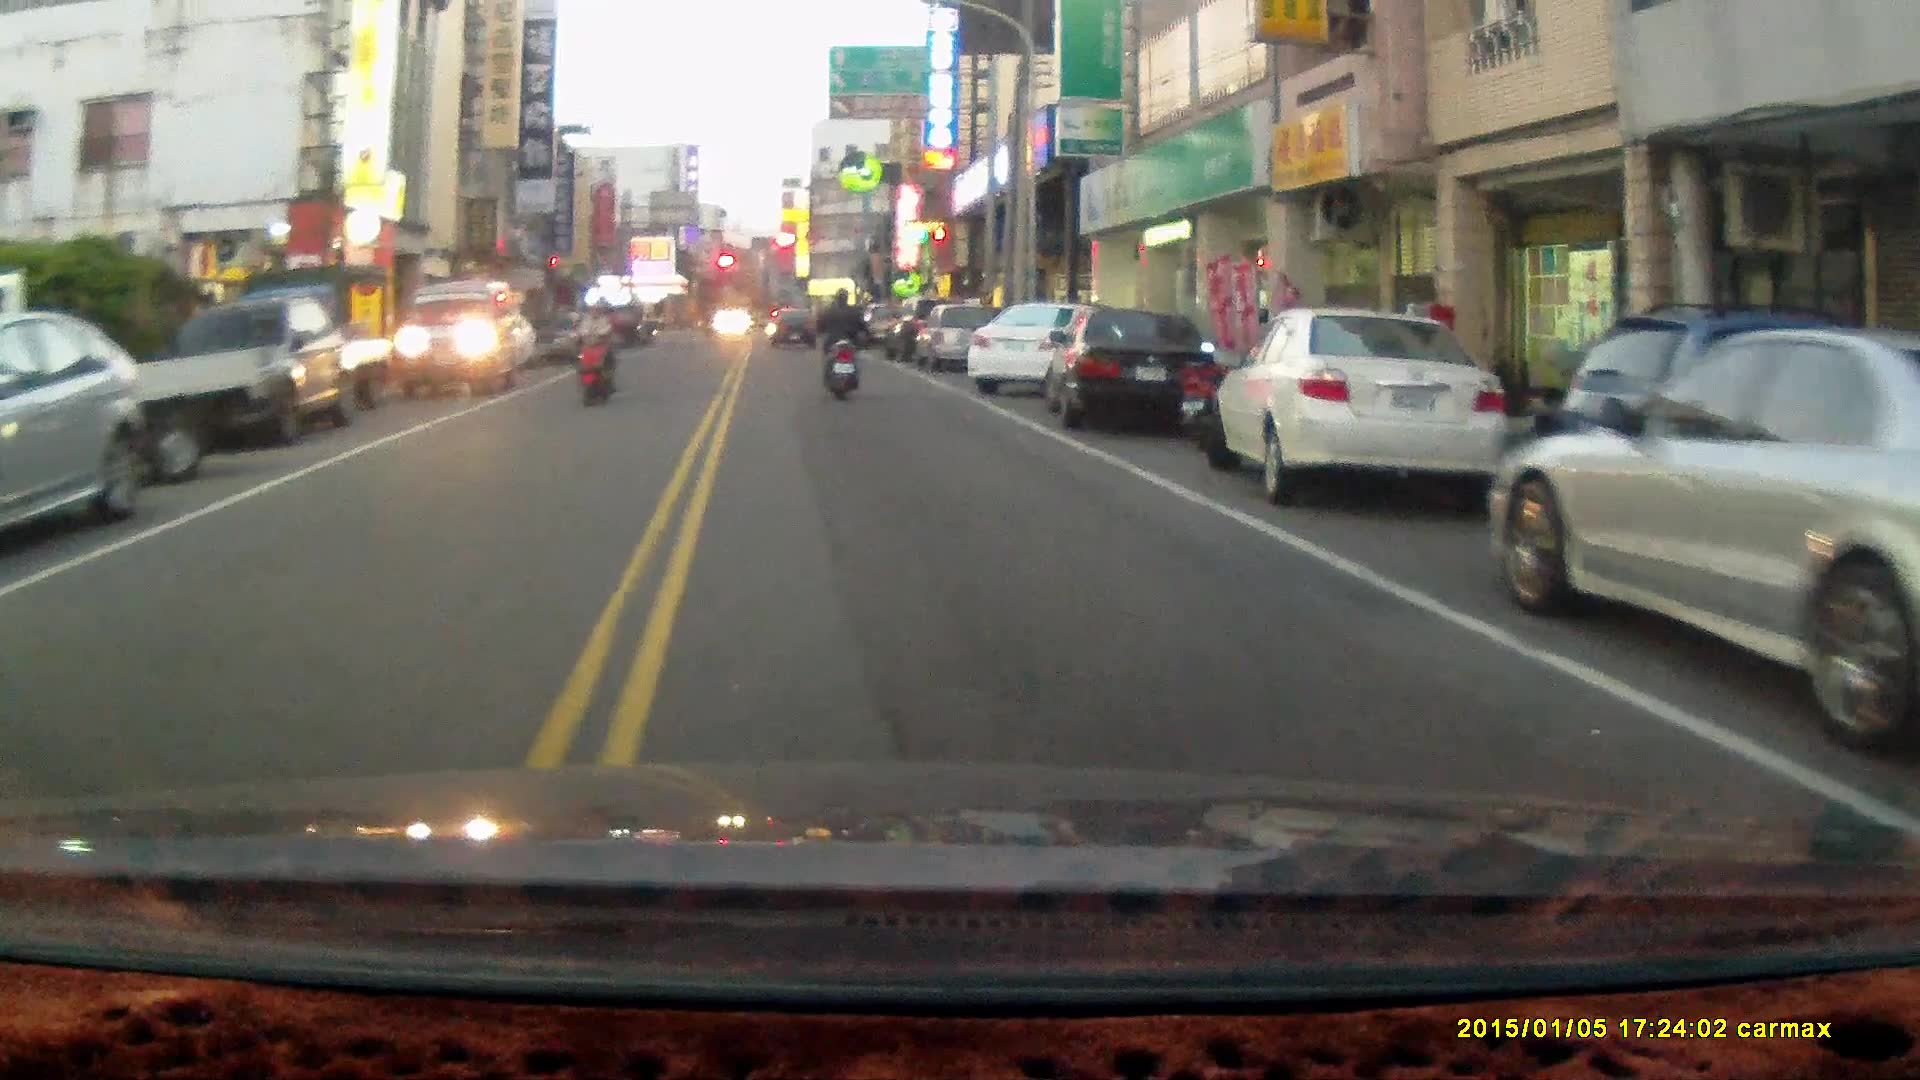rider: (817, 285, 863, 405), (575, 297, 619, 410)
vehicle: (1487, 319, 1920, 761), (1215, 304, 1512, 506), (1, 301, 147, 563), (162, 288, 355, 444), (1042, 303, 1219, 432), (966, 299, 1142, 398), (398, 276, 528, 398), (910, 301, 1016, 378)
